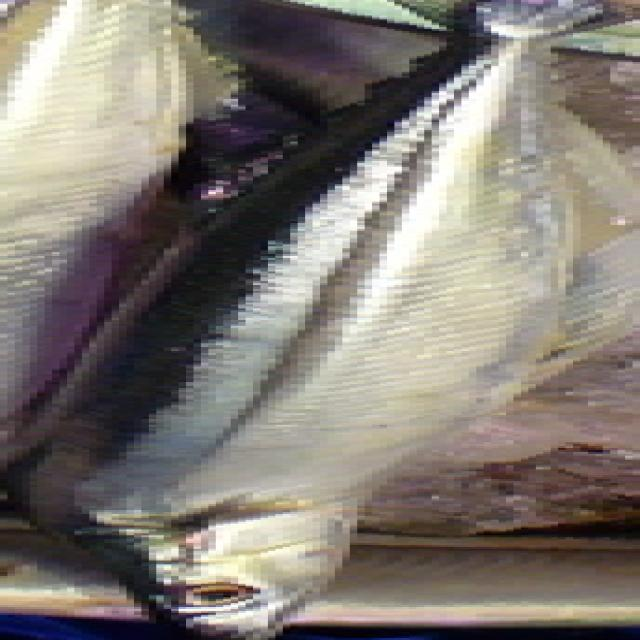fish: (7, 0, 640, 638)
